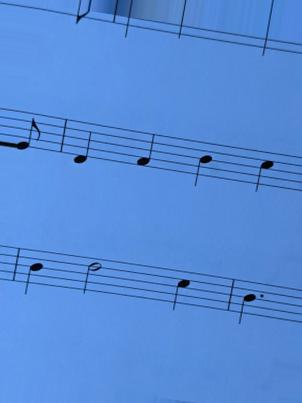note: (167, 267, 194, 320), (70, 117, 97, 169), (190, 134, 214, 192), (19, 247, 46, 297), (250, 149, 277, 195), (233, 277, 256, 328), (135, 128, 156, 176)
